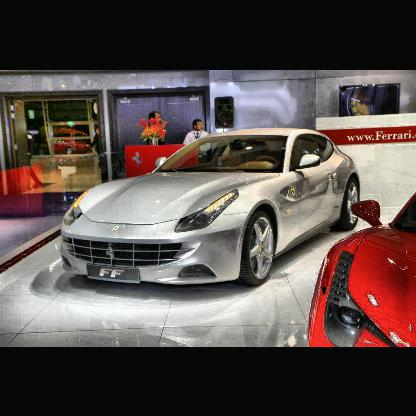Ferrari FF Coupe 2012: (60, 127, 362, 288)
